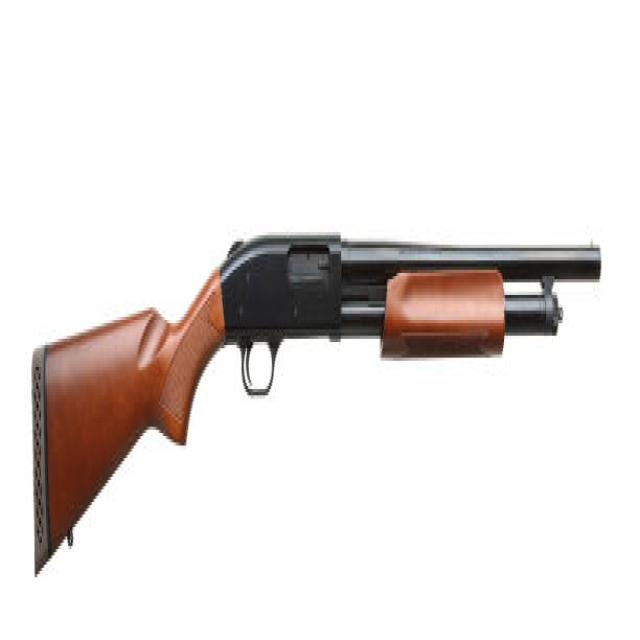rifle: (27, 206, 610, 586)
